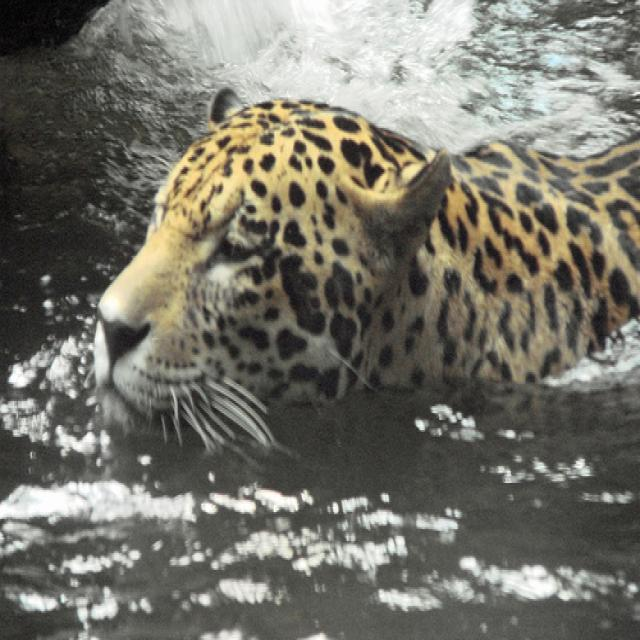Leopard: (83, 89, 638, 464)
